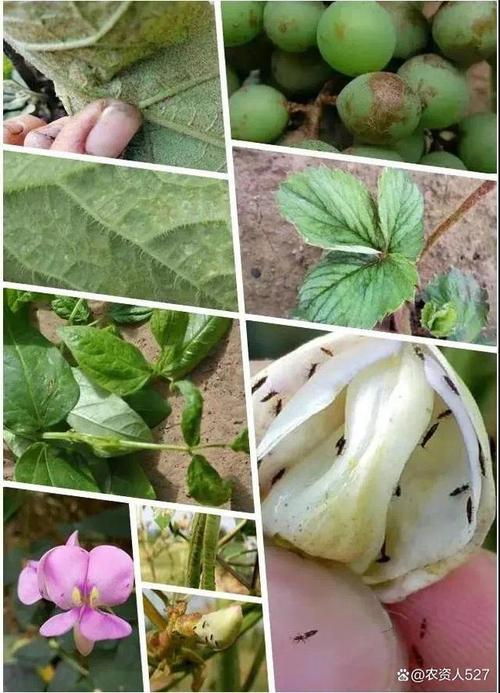Thripidae: (415, 423, 444, 453), (292, 624, 319, 652), (269, 461, 288, 490), (255, 386, 278, 406), (464, 490, 475, 531), (447, 482, 468, 503), (304, 364, 321, 383), (418, 614, 427, 647)
